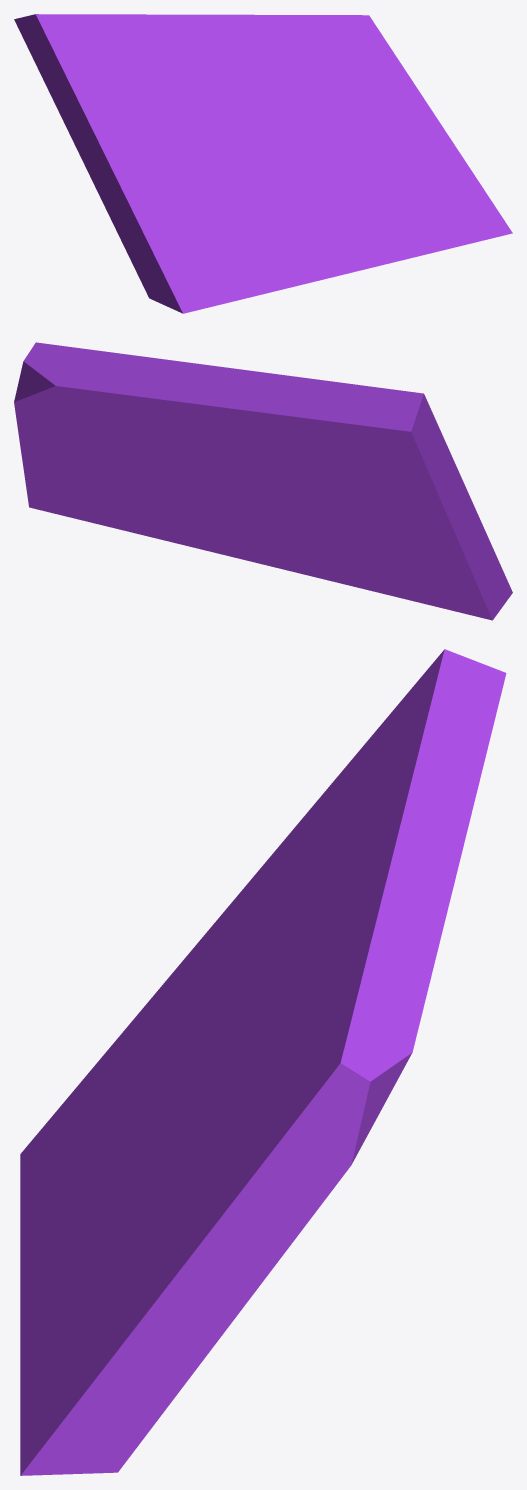
File: Window_131_0_chunks.fbx
3 renders of one model, top to bottom at view 1: azimuth 30°, elevation 25°; view 2: azimuth 150°, elevation 25°; view 3: azimuth 270°, elevation 25°, orthographic. The views are drawn at different scales.
Visible parts, largest first — view 1: Window_131_0_0, Window_131_0_5, Window_131_0_2, Window_131_0_4, Window_131_0_1, Window_131_0_9, Window_131_0_11, Window_131_0_7, Window_131_0_8, Window_131_0_12, Window_131_0_6, Window_131_0_10; view 2: Window_131_0_0, Window_131_0_5, Window_131_0_8, Window_131_0_2, Window_131_0_6, Window_131_0_11, Window_131_0_3, Window_131_0_10, Window_131_0_4, Window_131_0_1, Window_131_0_12; view 3: Window_131_0_0, Window_131_0_5, Window_131_0_2, Window_131_0_8, Window_131_0_1, Window_131_0_4, Window_131_0_9, Window_131_0_11, Window_131_0_7, Window_131_0_12, Window_131_0_6.
Boxes of the visible parts, bbox=[...] form: Window_131_0_0: bbox=[309, 15, 512, 245]; Window_131_0_5: bbox=[14, 14, 189, 196]; Window_131_0_2: bbox=[105, 142, 264, 313]; Window_131_0_4: bbox=[212, 126, 379, 199]; Window_131_0_1: bbox=[245, 14, 313, 129]; Window_131_0_9: bbox=[246, 211, 402, 297]; Window_131_0_11: bbox=[331, 182, 461, 259]; Window_131_0_7: bbox=[169, 62, 247, 145]; Window_131_0_8: bbox=[166, 14, 250, 73]; Window_131_0_12: bbox=[259, 189, 335, 234]; Window_131_0_6: bbox=[100, 134, 201, 207]; Window_131_0_10: bbox=[249, 232, 273, 285]; Window_131_0_0: bbox=[14, 342, 199, 533]; Window_131_0_5: bbox=[259, 373, 474, 550]; Window_131_0_8: bbox=[105, 360, 277, 459]; Window_131_0_2: bbox=[336, 507, 512, 620]; Window_131_0_6: bbox=[182, 456, 469, 559]; Window_131_0_11: bbox=[136, 504, 255, 562]; Window_131_0_3: bbox=[250, 492, 354, 557]; Window_131_0_10: bbox=[243, 532, 385, 594]; Window_131_0_4: bbox=[168, 475, 253, 521]; Window_131_0_1: bbox=[106, 351, 173, 373]; Window_131_0_12: bbox=[220, 515, 276, 533]; Window_131_0_0: bbox=[20, 980, 425, 1475]; Window_131_0_5: bbox=[205, 649, 506, 951]; Window_131_0_2: bbox=[20, 935, 228, 1215]; Window_131_0_8: bbox=[304, 811, 466, 999]; Window_131_0_1: bbox=[213, 916, 395, 1116]; Window_131_0_4: bbox=[126, 1005, 237, 1255]; Window_131_0_9: bbox=[20, 1182, 104, 1368]; Window_131_0_11: bbox=[20, 1209, 131, 1425]; Window_131_0_7: bbox=[226, 891, 336, 1028]; Window_131_0_12: bbox=[92, 1132, 139, 1226]; Window_131_0_6: bbox=[211, 943, 251, 996].
Bounding box in the file's own units: 905 × 532 × 504.
